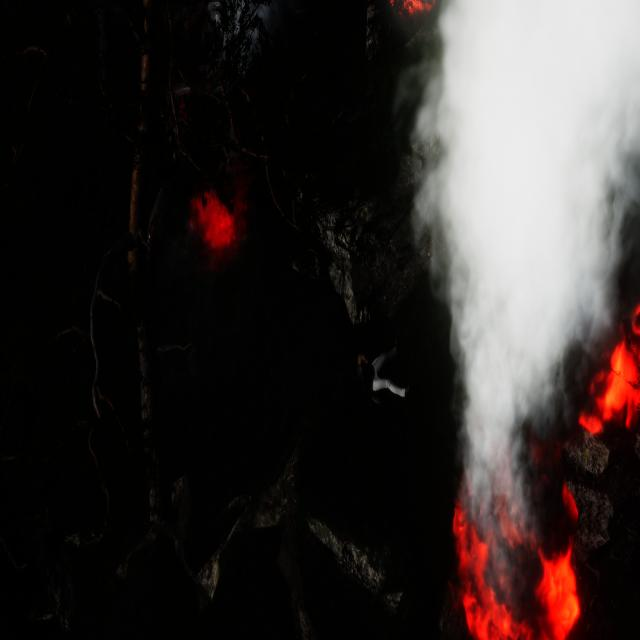Human: (352, 335, 418, 414)
